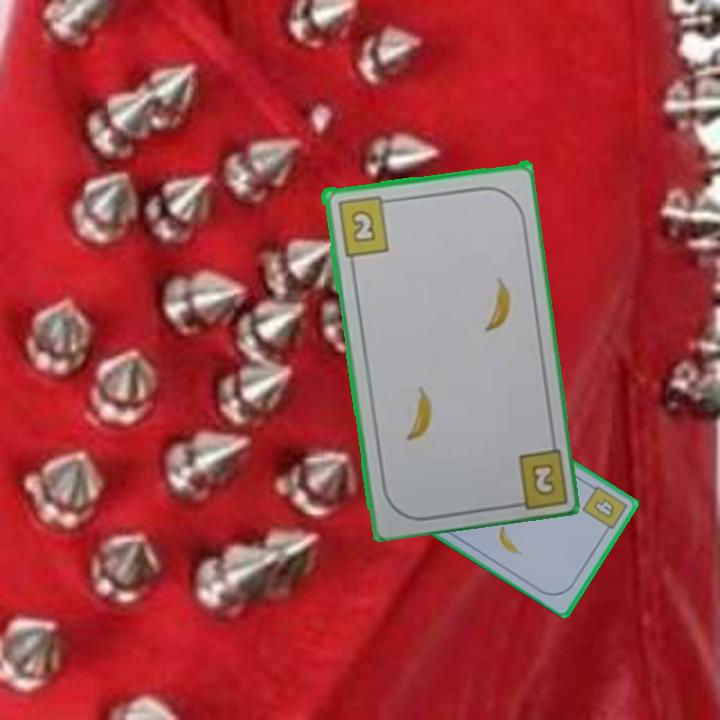2b: (333, 192, 395, 258), (527, 458, 557, 495)
4b: (579, 482, 630, 537)
